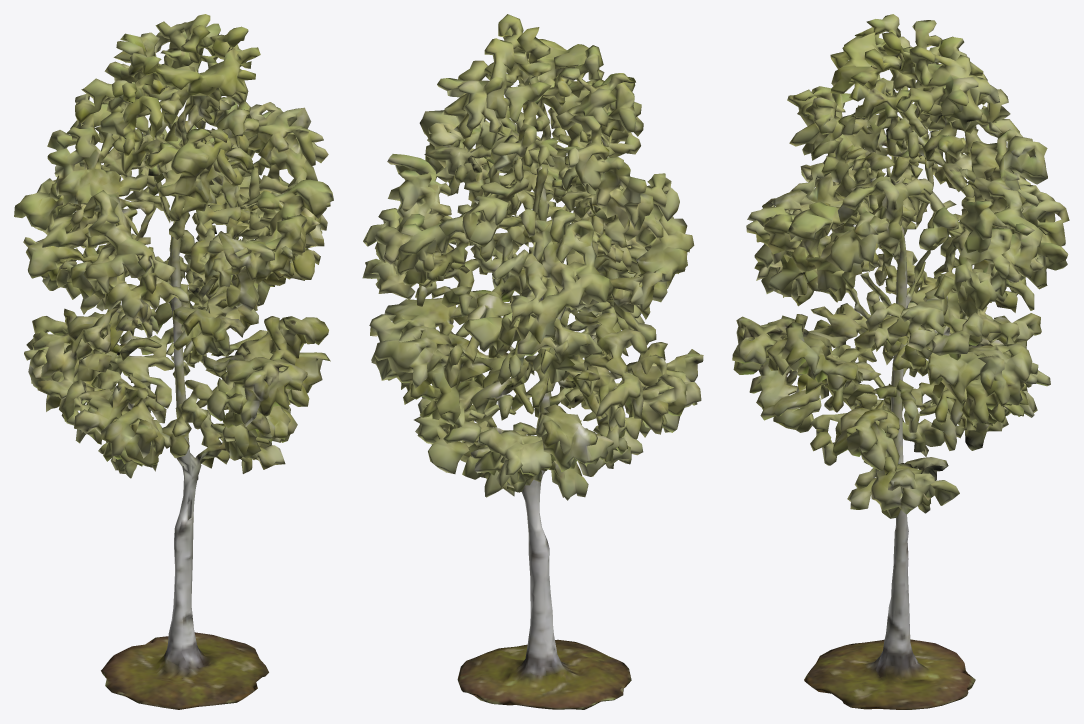
The model's file is AI_QuakingAspen03.fbx.
3 views of the same model, side by side, from view 1: azimuth 30°, elevation 25°; view 2: azimuth 150°, elevation 25°; view 3: azimuth 270°, elevation 25° (orthographic).
Parts seen in each view (by area): view 1: Mesh1.0; view 2: Mesh1.0; view 3: Mesh1.0.
Part boxes in pixels (x1,y1,x2,y2): Mesh1.0: [14, 14, 333, 709]; Mesh1.0: [362, 14, 703, 709]; Mesh1.0: [732, 14, 1069, 709].
Size of the model in its own units: 94.78 by 200 by 93.99.
1 material, 1 textured.
